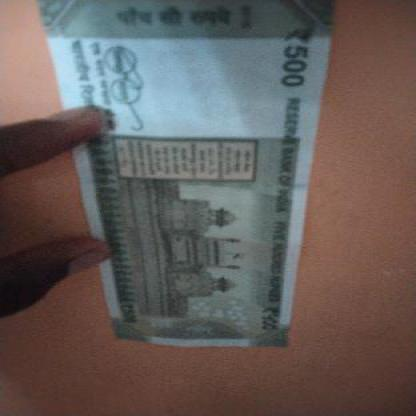New500Back: (41, 0, 319, 343)
